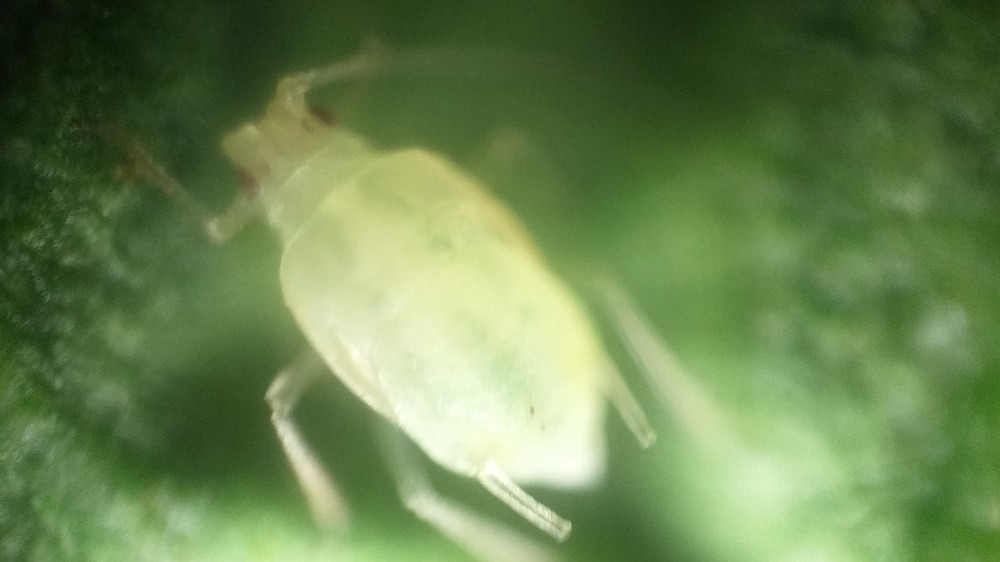Pulgon: (104, 19, 749, 556)
